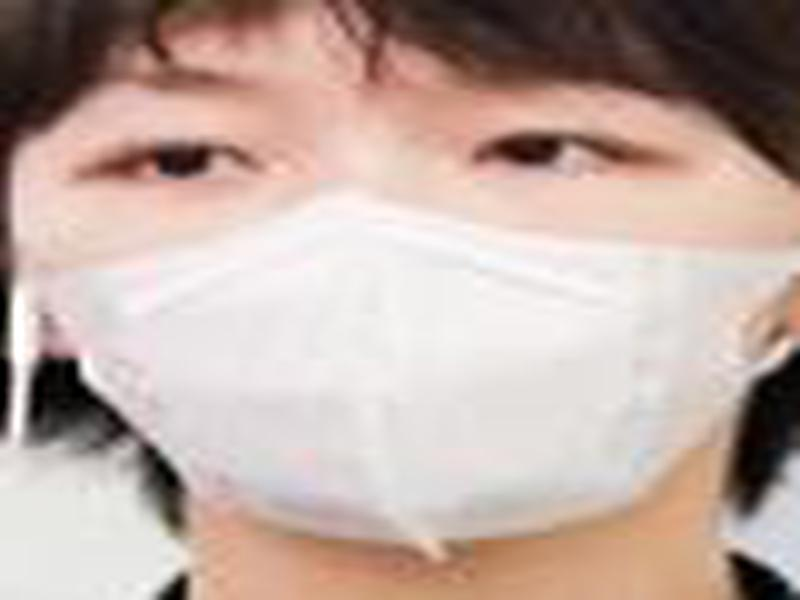with_mask: (1, 2, 798, 565)
